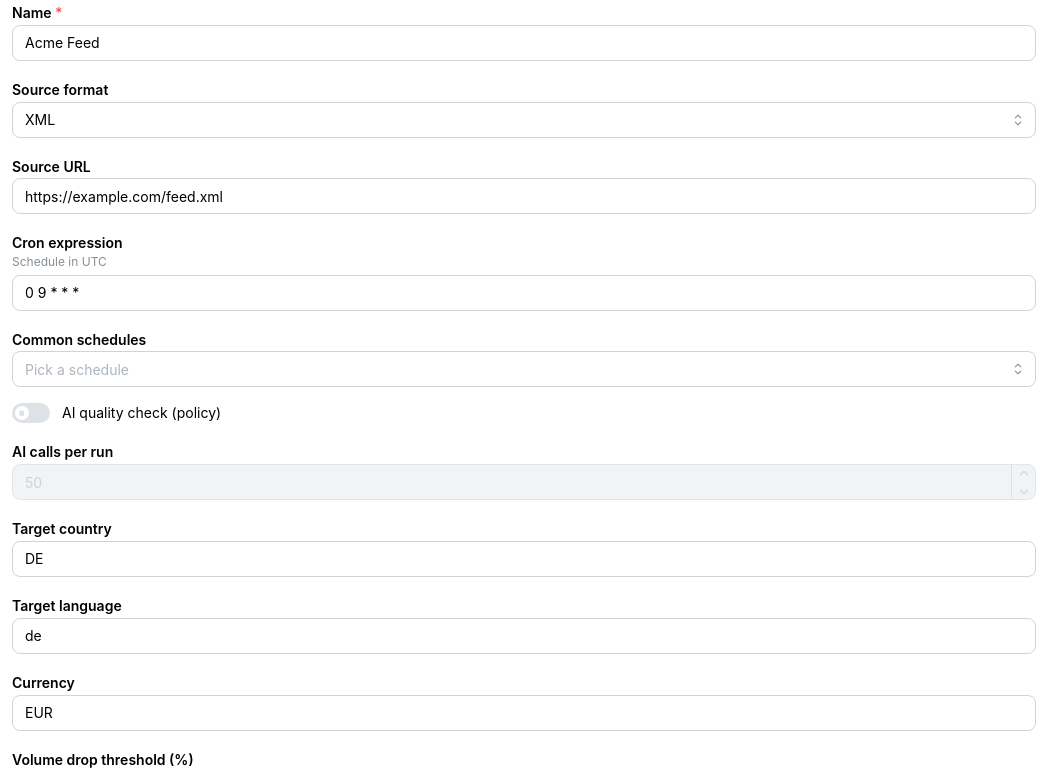
Test: FeedSettingsForm › reset restores server values
Step 1. Replace the text in the field showing "Acme Feed" with "Changed" → x=524, y=43, box [12, 25, 1036, 61]
(page scrolled)
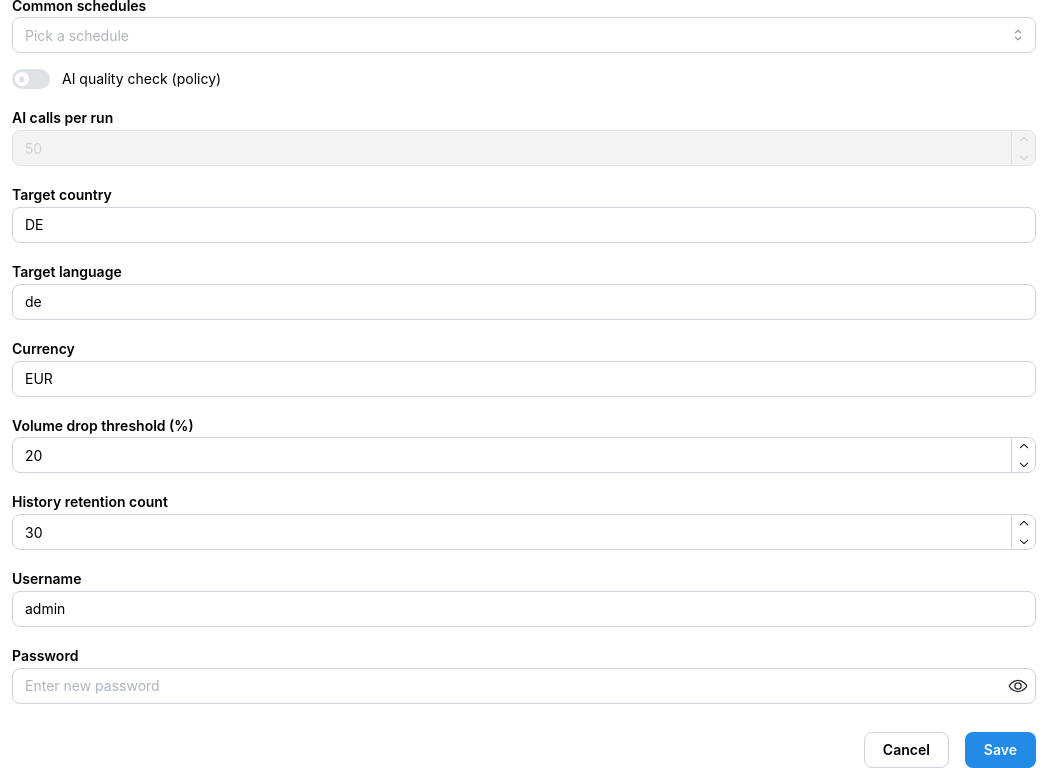
Step 2. Click the button "Cancel" → x=906, y=750, box [864, 732, 949, 767]
(page scrolled)
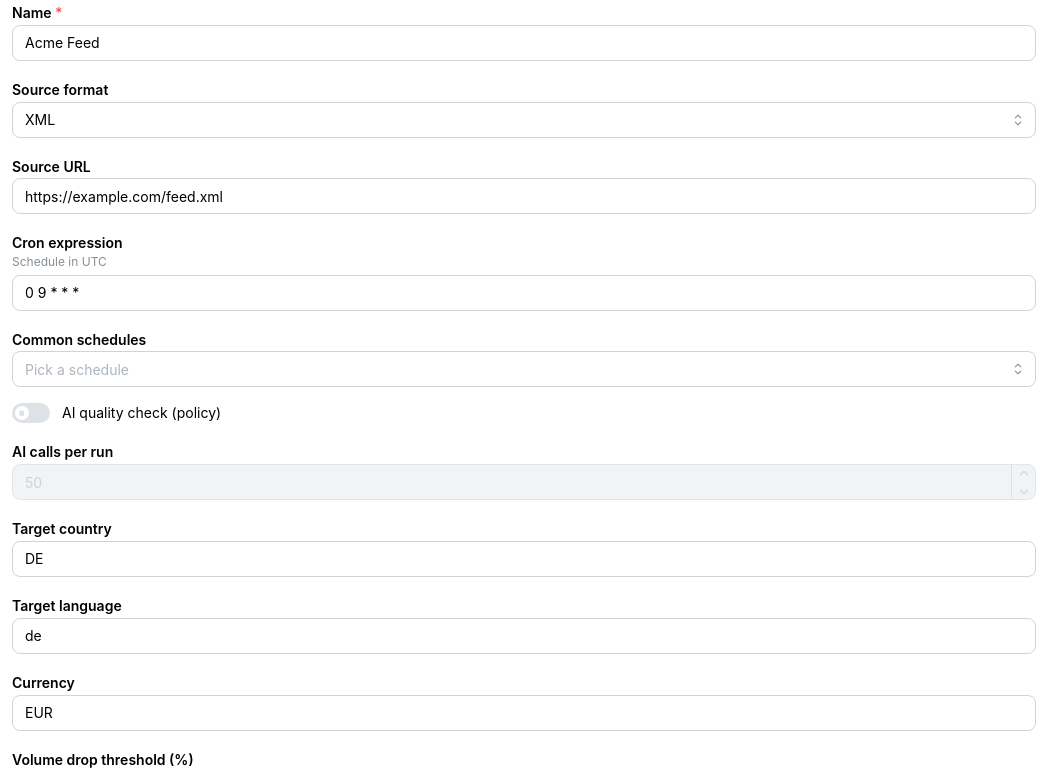
expect the field showing "Acme Feed" is shown: met, box [12, 25, 1036, 61]
